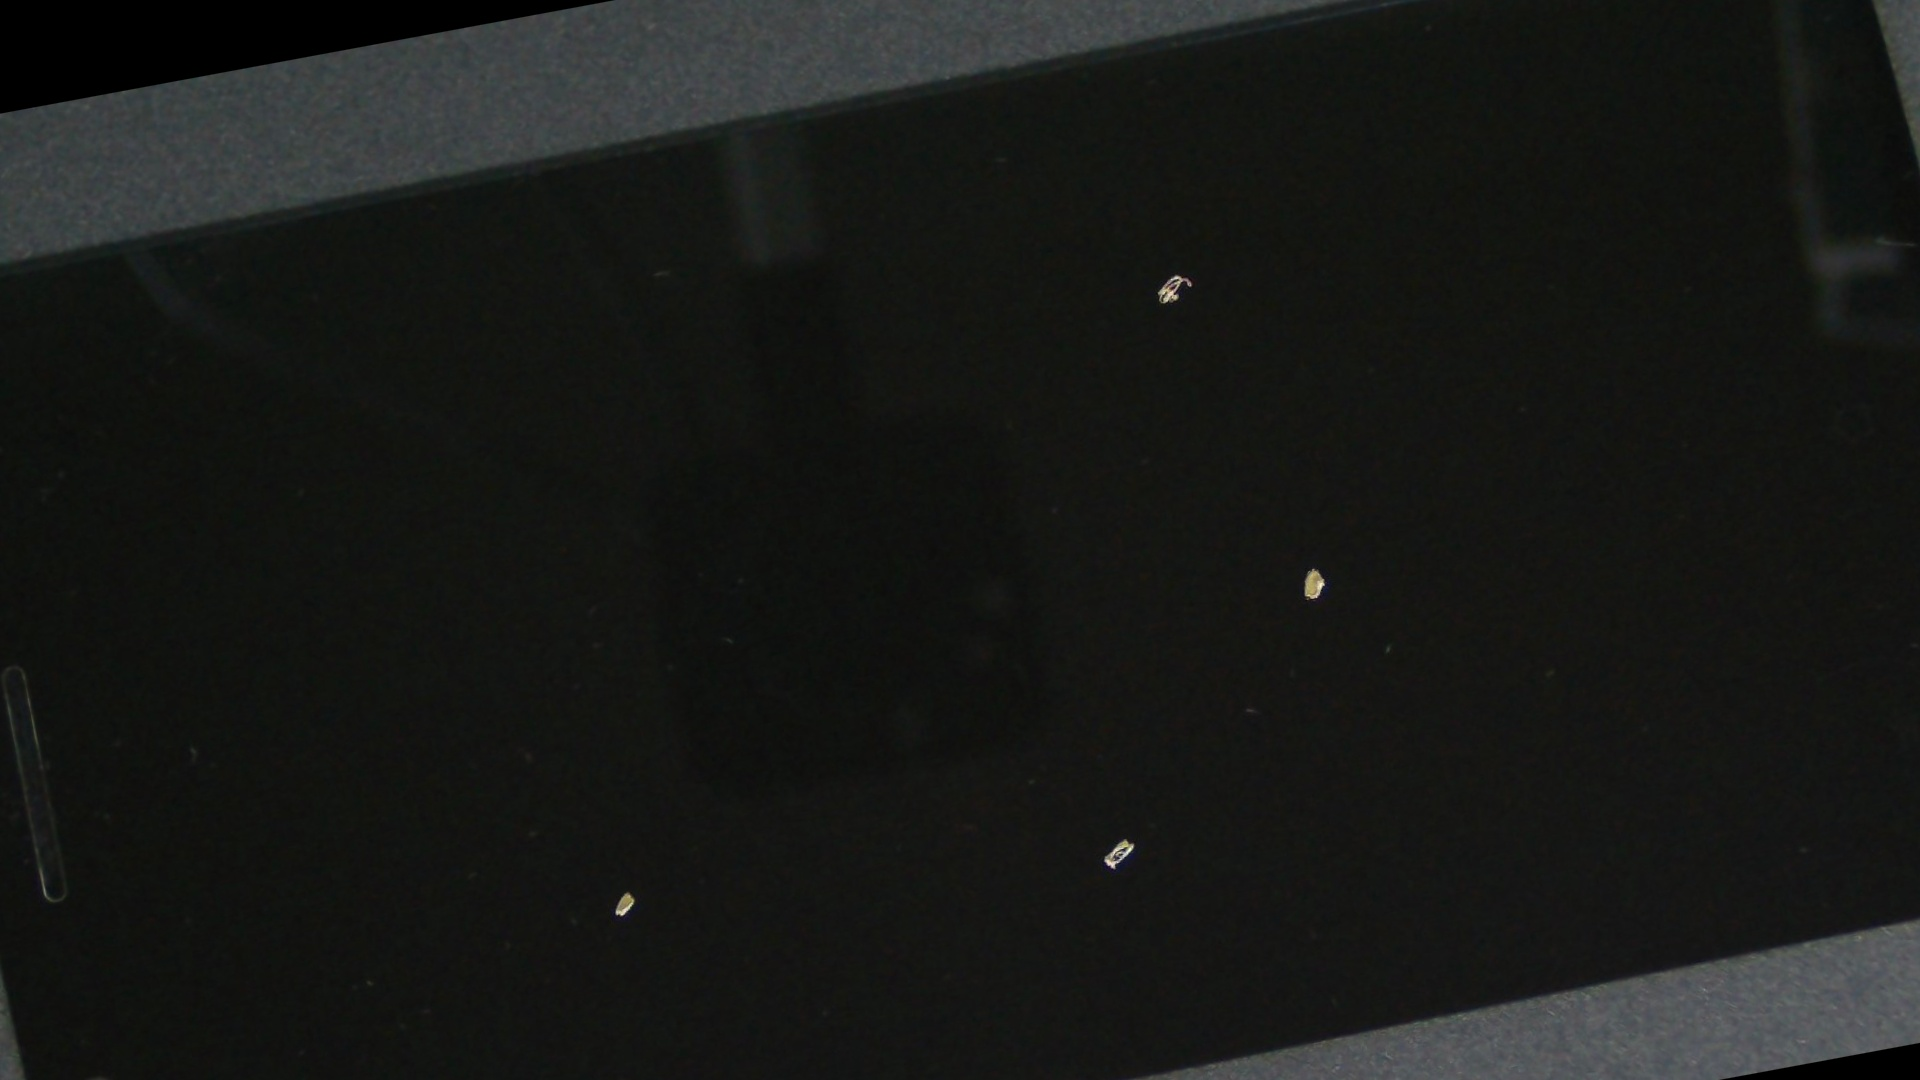oil: (526, 96, 1920, 1039), (431, 274, 1795, 1080), (458, 0, 1894, 583), (183, 392, 1058, 1080)
